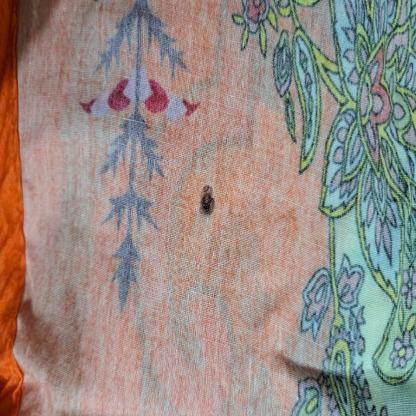spot: (198, 178, 216, 220)
